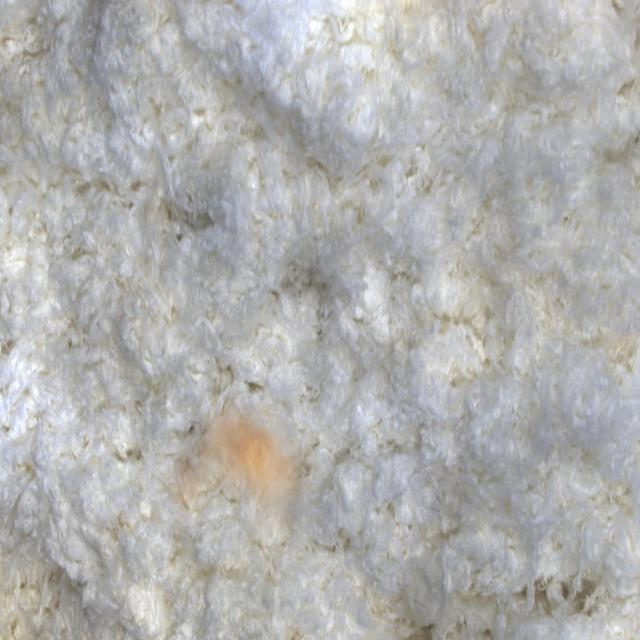dust: (168, 397, 320, 542)
